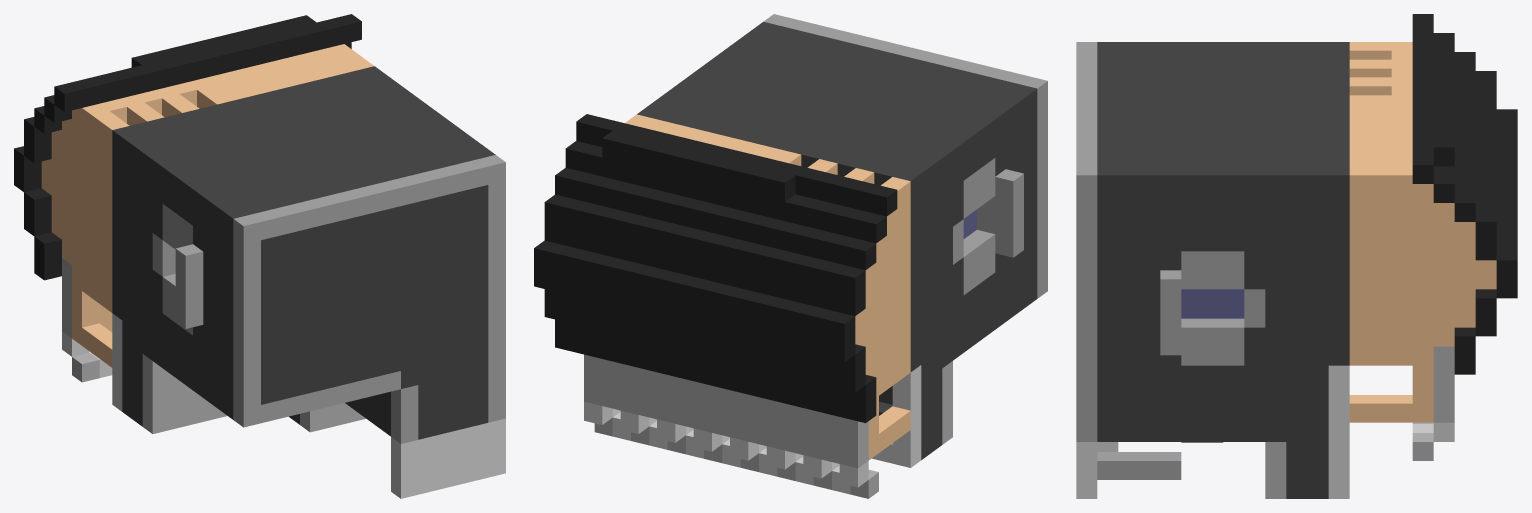
File: yoshida23.fbx
3 views of the same model, side by side, from view 1: azimuth 30°, elevation 25°; view 2: azimuth 150°, elevation 25°; view 3: azimuth 270°, elevation 25° (orthographic). The views are drawn at different scales.
Parts seen in each view (by area): view 1: Default; view 2: Default; view 3: Default.
Boxes of the visible parts, x1,y1,x2,y2 form: Default: [14, 14, 505, 498]; Default: [534, 14, 1047, 498]; Default: [1076, 14, 1517, 498].
Bounding box in the file's own units: 17 × 18 × 21.
Materials: 1 (1 with a texture image).
